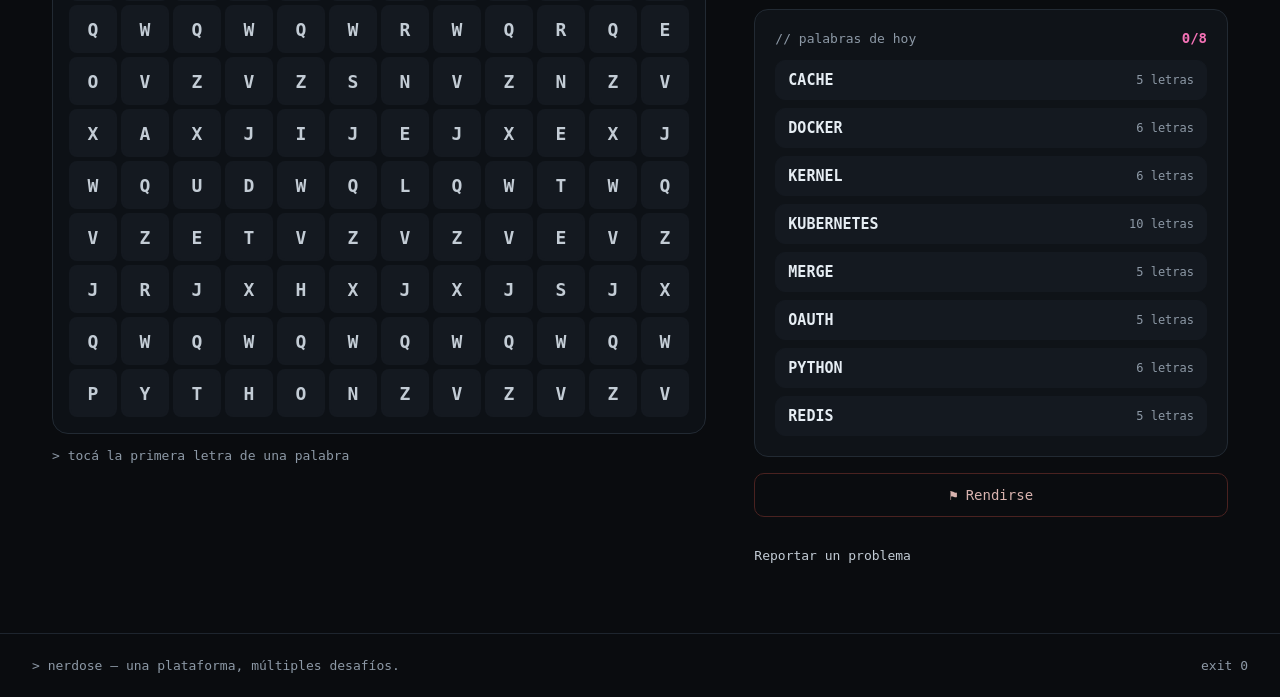
cierre › TS-22: rendirse con 0/8
This screenshot has width=1280, height=697.
(page scrolled)
Step 1. Click the button "⚑ Rendirse" → (991, 495), box 754,473 -> 1228,517
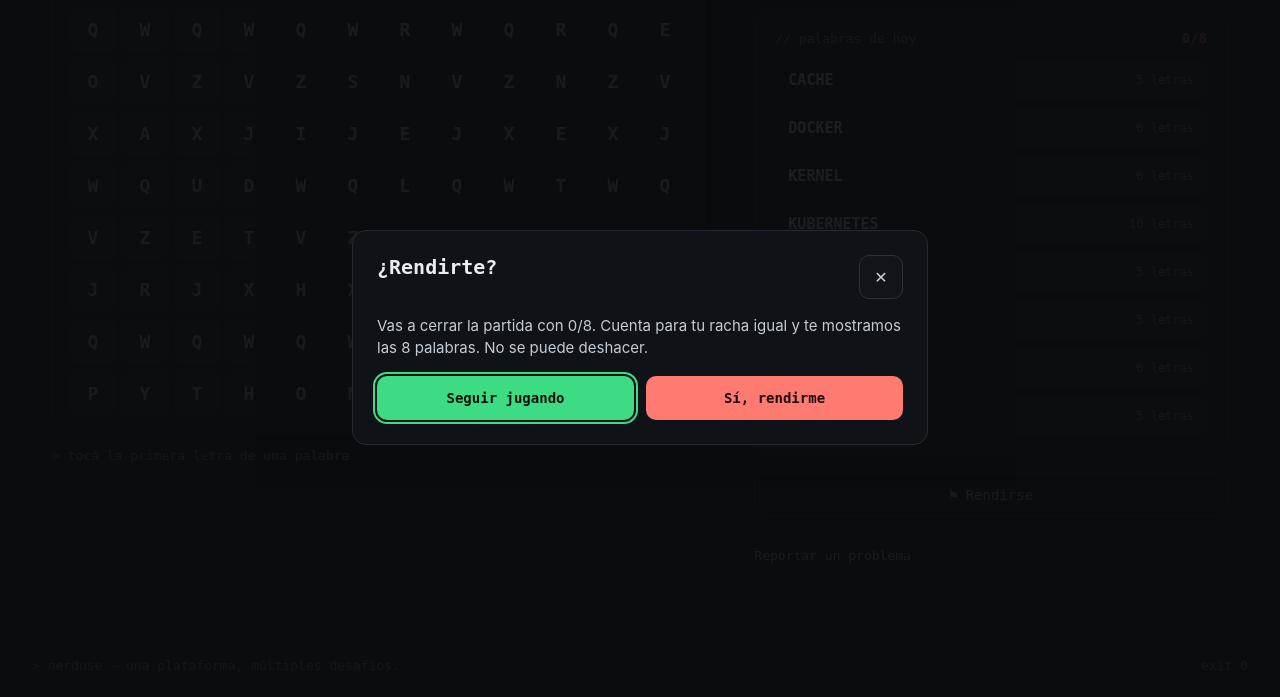
Expected: the dialog shows "Vas a cerrar la partida con 0/8. Cuenta para tu racha igual y te mostramos las 8 palabras. No se puede deshacer.", 377,316 -> 901,357
